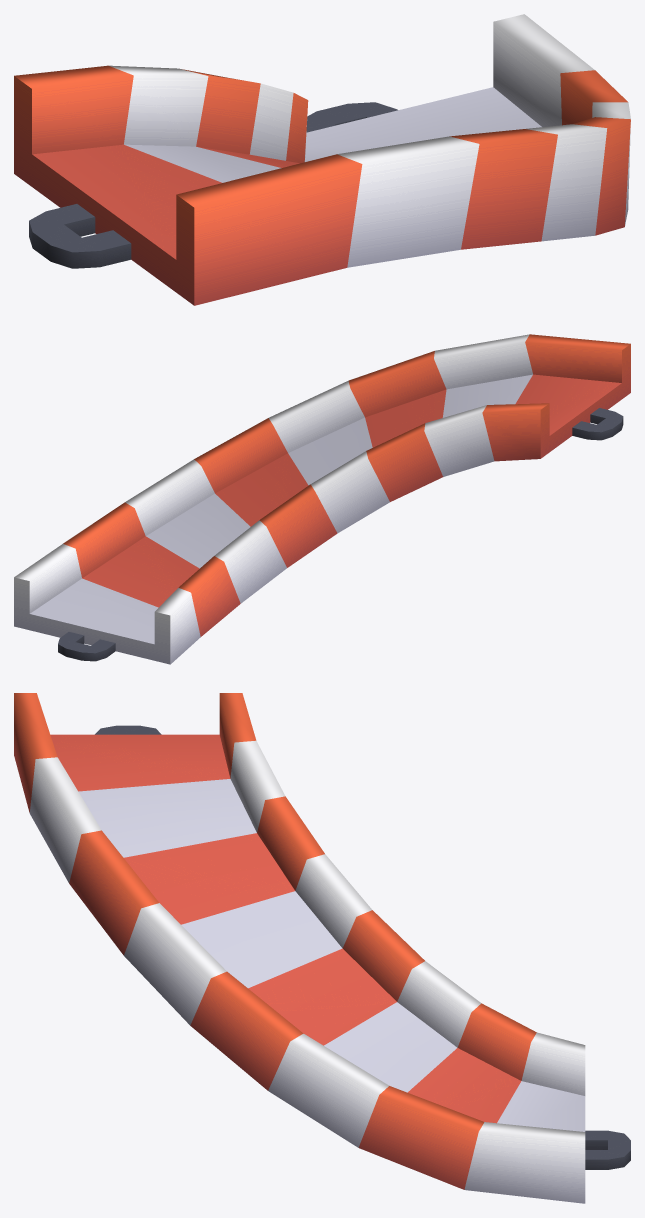
The model's file is track-striped-narrow-corner-small-ramp.glb.
3 renders of one model, top to bottom at view 1: azimuth 30°, elevation 25°; view 2: azimuth 150°, elevation 25°; view 3: azimuth 270°, elevation 25°, orthographic. The views are drawn at different scales.
Parts seen in each view (by area): view 1: track-striped-narrow-corner-small-ramp; view 2: track-striped-narrow-corner-small-ramp; view 3: track-striped-narrow-corner-small-ramp.
Part boxes in pixels (x1,y1,x2,y2): track-striped-narrow-corner-small-ramp: [14, 14, 630, 305]; track-striped-narrow-corner-small-ramp: [14, 334, 630, 664]; track-striped-narrow-corner-small-ramp: [14, 693, 630, 1203].
Size of the model in its own units: 2.7 by 1.3 by 2.7.
1 material, 1 textured.
